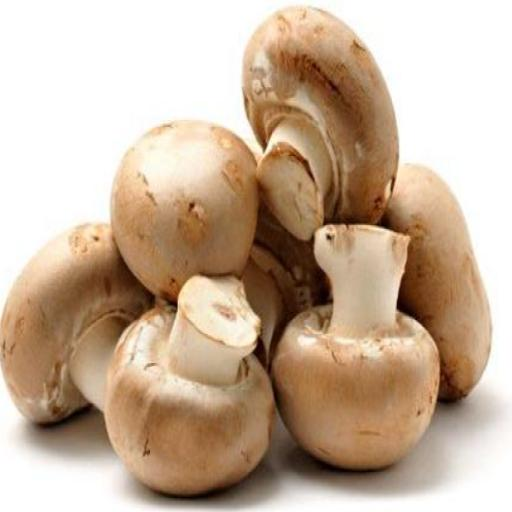Button Mushroom: (270, 221, 447, 478), (246, 2, 412, 242), (107, 277, 269, 493), (0, 215, 155, 439), (384, 147, 508, 407), (104, 113, 262, 296)
